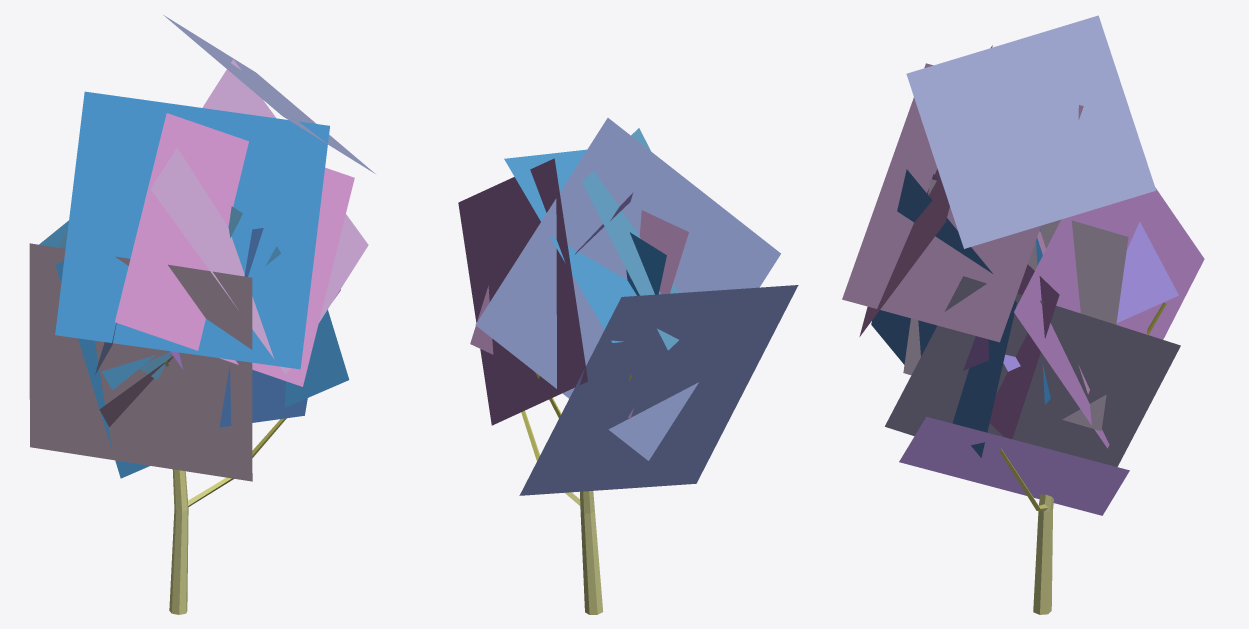
The model's file is tree_oak_1.glb.
3 renders of one model, left to right at view 1: azimuth 30°, elevation 25°; view 2: azimuth 150°, elevation 25°; view 3: azimuth 270°, elevation 25°, orthographic. The views are drawn at different scales.
Parts seen in each view (by area): view 1: tree_oak_1; view 2: tree_oak_1; view 3: tree_oak_1.
Boxes of the visible parts, bbox=[...] form: tree_oak_1: bbox=[29, 15, 375, 614]; tree_oak_1: bbox=[458, 118, 798, 614]; tree_oak_1: bbox=[842, 15, 1204, 614].
Bounding box in the file's own units: 7.11 × 11.64 × 7.05.
